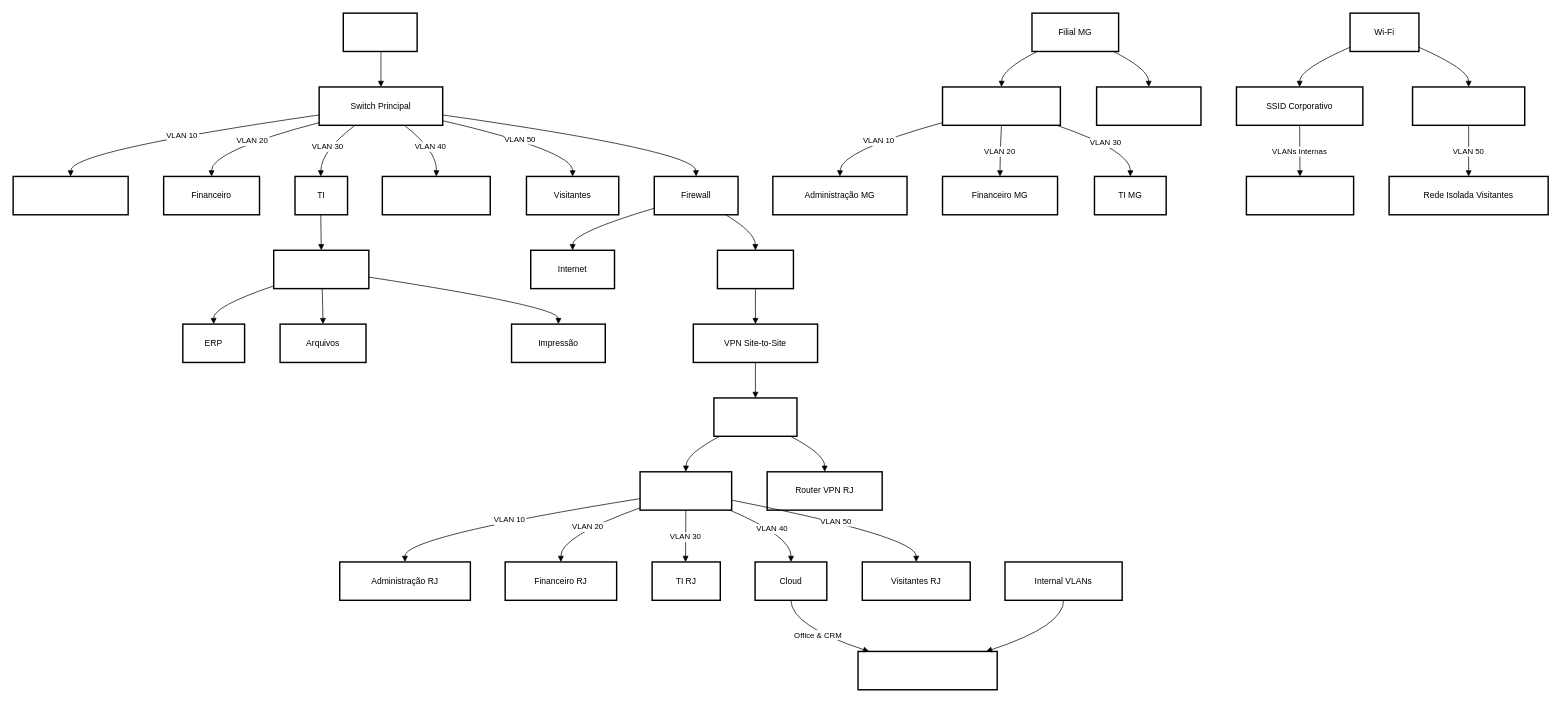
This 1561x702 diagram has some shape labels left out. Each missing label, with the box of its shape:
Access via Internet: (857, 650, 998, 690)
Administração: (12, 175, 129, 215)
Atendimento: (381, 175, 491, 215)
Filial RJ: (713, 397, 797, 437)
Matriz: (342, 12, 417, 52)
Rede Interna: (1245, 175, 1354, 215)
Router: (716, 249, 794, 289)
Servidores: (273, 249, 369, 289)
SSID Visitante: (1411, 86, 1525, 126)
Switch RJ: (639, 471, 732, 510)
Switch Simples: (941, 86, 1061, 126)
VPN Remota: (1096, 86, 1201, 126)
